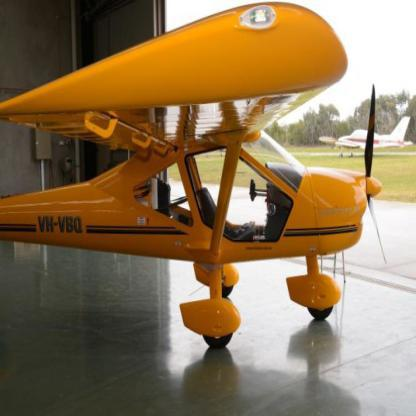CIV_Plane: (0, 0, 390, 376)
